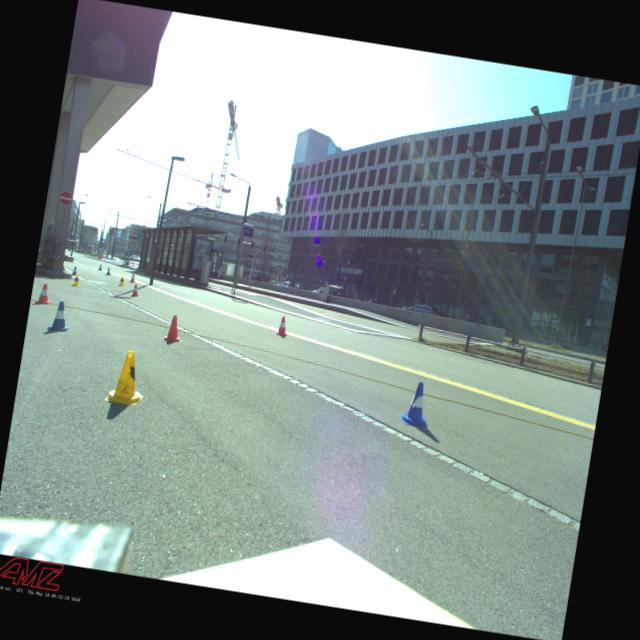blue_cone: (398, 379, 436, 428), (48, 300, 74, 333), (72, 266, 78, 276), (106, 268, 112, 276), (98, 264, 103, 271)
orange_cone: (162, 314, 186, 343), (34, 282, 54, 306), (274, 316, 292, 337), (131, 284, 141, 298), (130, 274, 136, 284)
yellow_cone: (104, 348, 150, 408), (71, 273, 83, 287), (118, 276, 126, 286)
